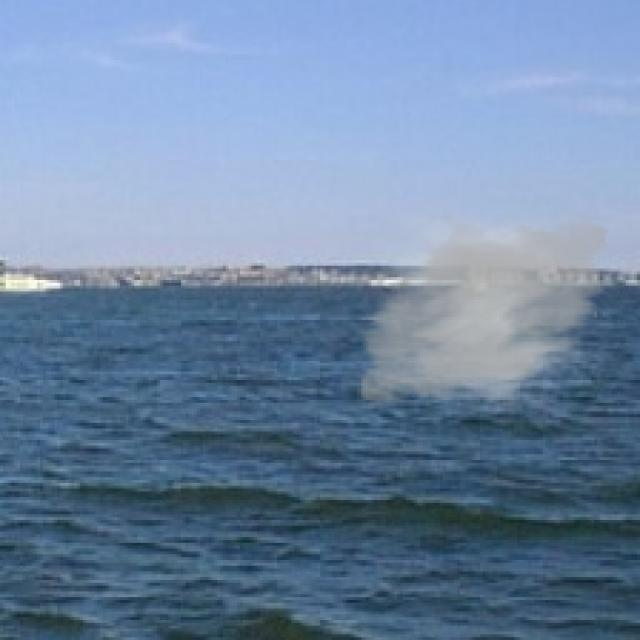smoke: (346, 200, 620, 420)
